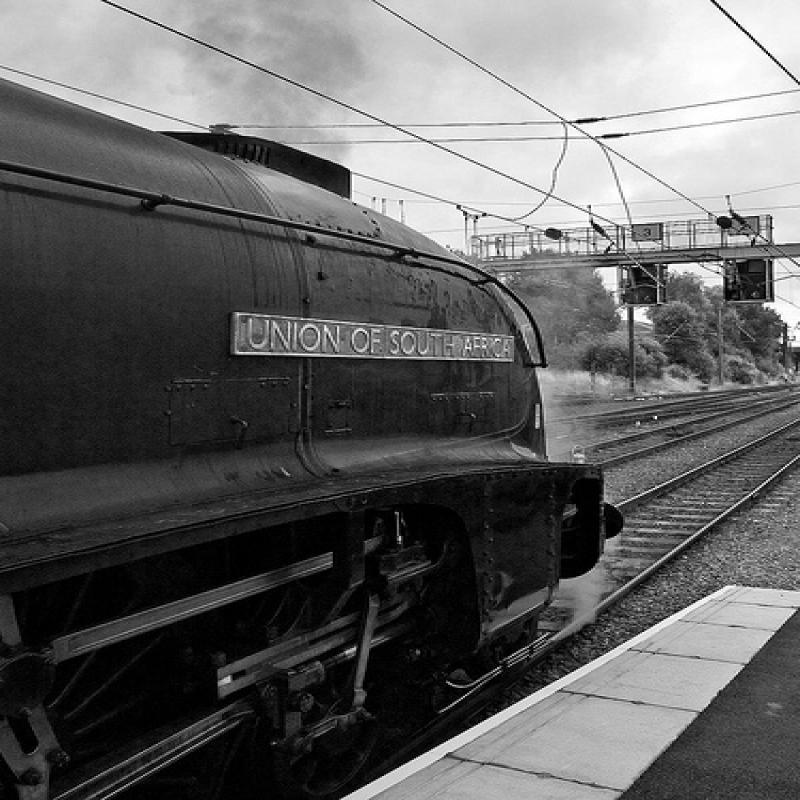train: (3, 81, 628, 800)
